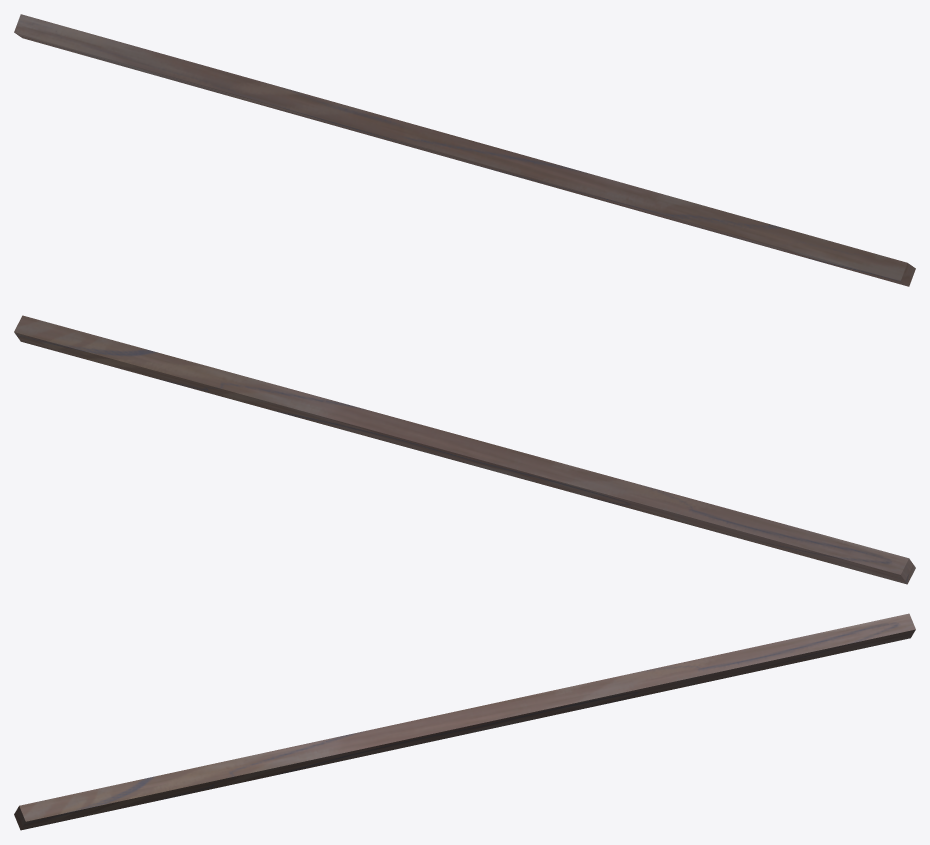
File: stay_002.fbx
The picture shows the model from 3 angles, top to bottom: view 1: azimuth 30°, elevation 25°; view 2: azimuth 210°, elevation 25°; view 3: azimuth 270°, elevation 25°; orthographic projection. The views are drawn at different scales.
Parts seen in each view (by area): view 1: stay.002; view 2: stay.002; view 3: stay.002.
Boxes of the visible parts, box(x1,y1,x2,y2) form: stay.002: box(14, 14, 915, 286); stay.002: box(14, 315, 915, 584); stay.002: box(14, 613, 915, 830).
Size of the model in its own units: 129 by 7.96 by 246.
